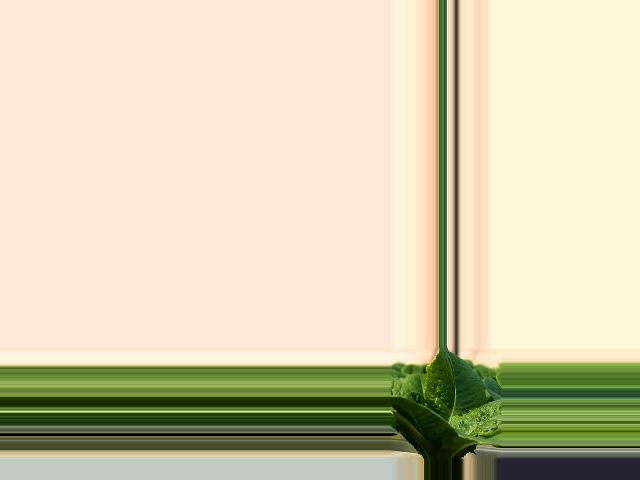lettuce: (392, 357, 490, 459)
